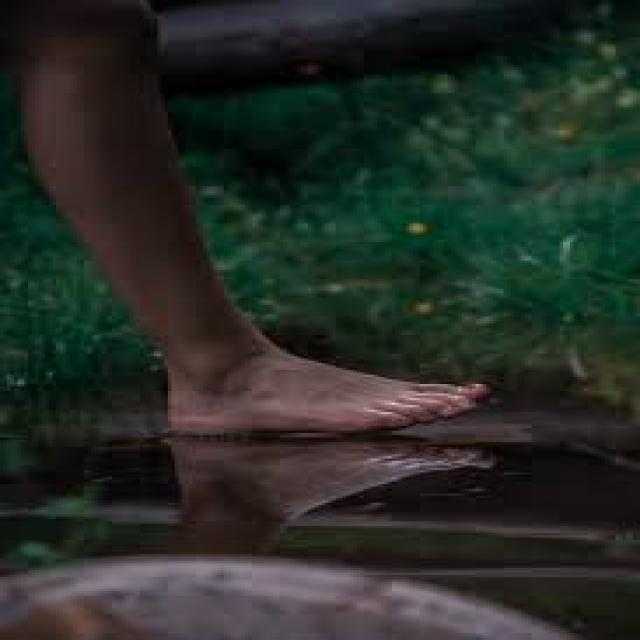No_Shoe: (152, 330, 490, 442)
